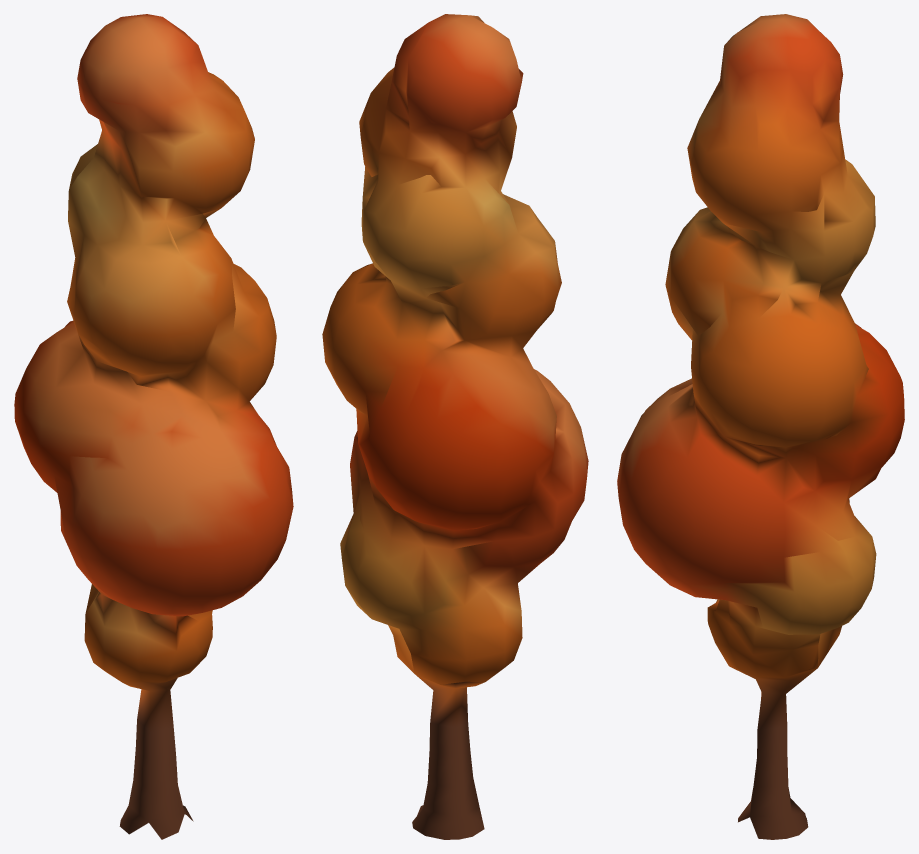
Rendered from tall-tree-117-lod2.obj.
3 views of the same model, side by side, from view 1: azimuth 30°, elevation 25°; view 2: azimuth 150°, elevation 25°; view 3: azimuth 270°, elevation 25° (orthographic).
Parts seen in each view (by area): view 1: simplified; view 2: simplified; view 3: simplified.
Boxes of the visible parts, box(x1,y1,x2,y2) form: simplified: box(14, 14, 293, 839); simplified: box(322, 14, 588, 839); simplified: box(617, 14, 904, 839).
Size of the model in its own units: 202 by 690 by 225.
